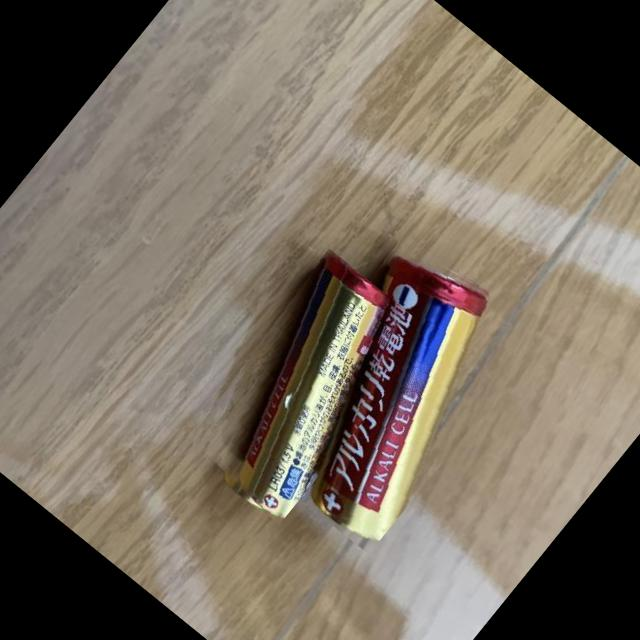Hazard: (232, 224, 546, 554), (170, 248, 432, 526)
